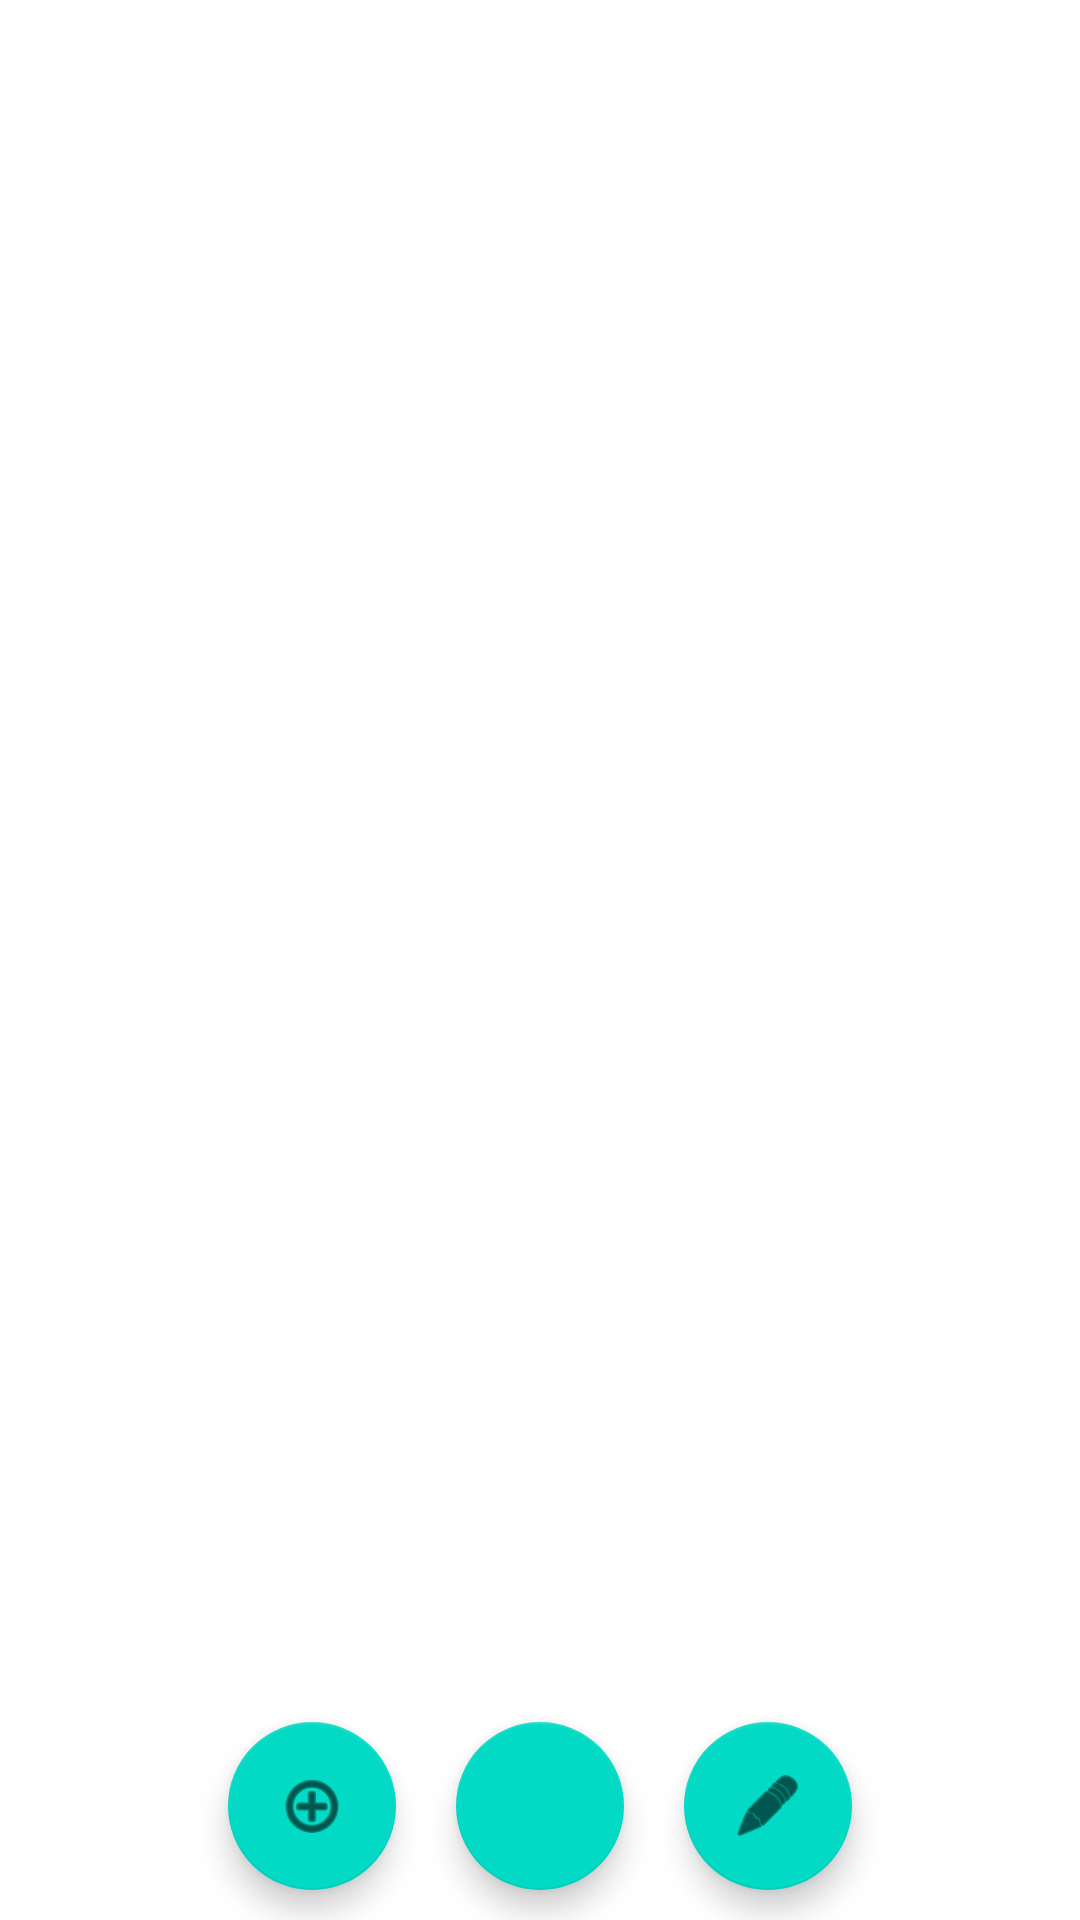

Icons on this 1080w x 1920h Android screen, each with its box as (x1, y1, x2, y2):
add: (228, 1722, 396, 1890)
edit: (684, 1722, 852, 1890)
